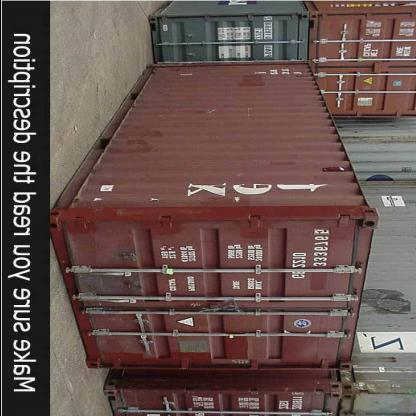Damage: (122, 114, 158, 157), (234, 70, 276, 92), (170, 67, 206, 85), (263, 156, 304, 170), (239, 98, 261, 122), (194, 106, 228, 119)
